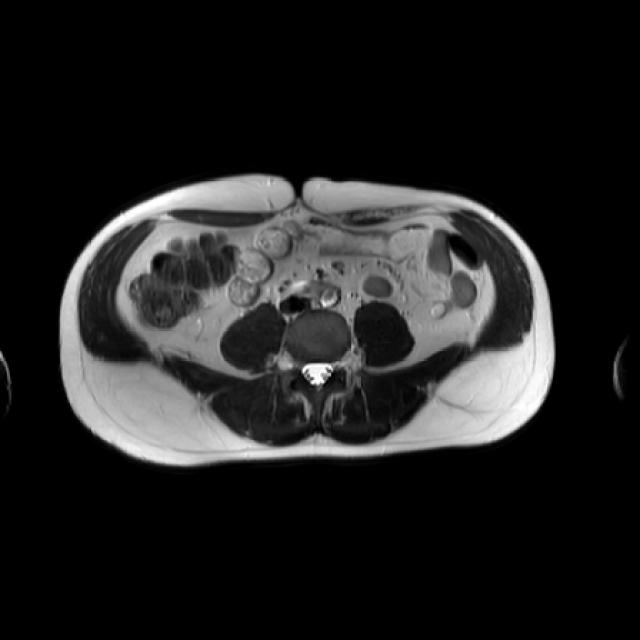sol: (429, 298, 448, 321)
